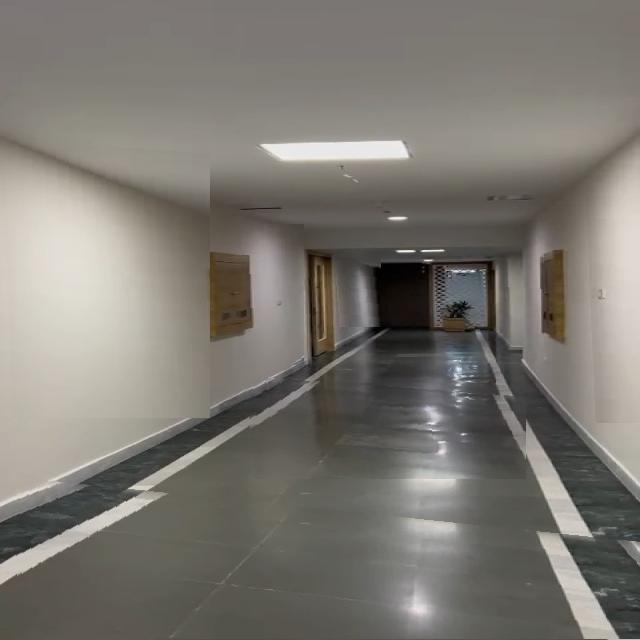floor: (14, 477, 640, 639), (245, 376, 526, 479), (348, 329, 496, 383)
furniture: (440, 298, 478, 332)
wall: (0, 137, 210, 418), (584, 161, 640, 423), (235, 224, 304, 370), (500, 252, 544, 348), (334, 252, 381, 327)
